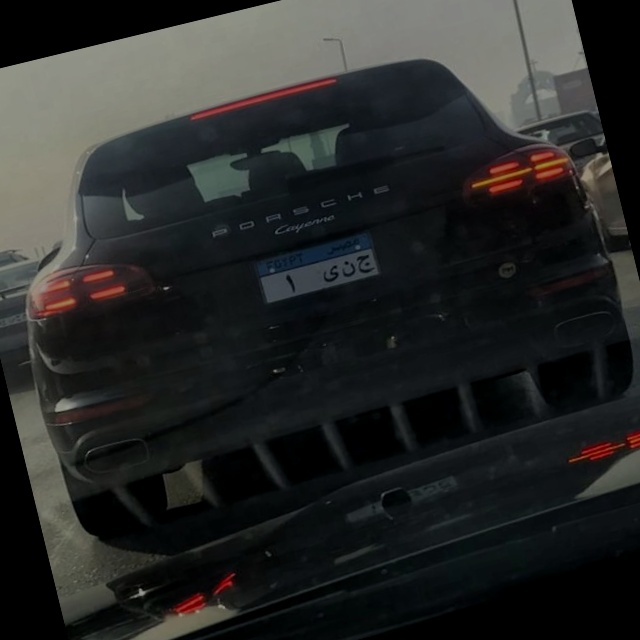License Plate: (251, 228, 384, 307)
